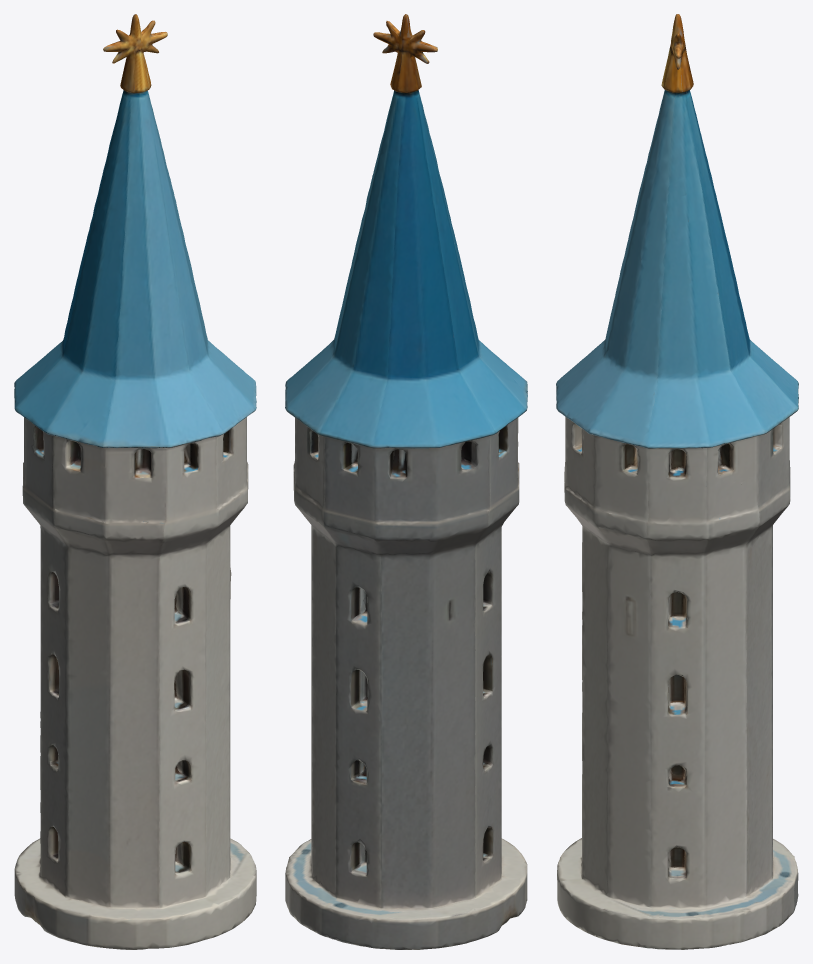
Rendered from 롯데_중앙첨탑.glb.
3 views of the same model, side by side, from view 1: azimuth 30°, elevation 25°; view 2: azimuth 150°, elevation 25°; view 3: azimuth 270°, elevation 25° (orthographic).
Parts seen in each view (by area): view 1: texture_mapping; view 2: texture_mapping; view 3: texture_mapping.
Part boxes in pixels (x1,y1,x2,y2): texture_mapping: (14, 14, 256, 949); texture_mapping: (285, 14, 527, 949); texture_mapping: (556, 14, 798, 949).
Bounding box in the file's own units: 0.2478 × 0.9961 × 0.2475.
1 material, 1 textured.
